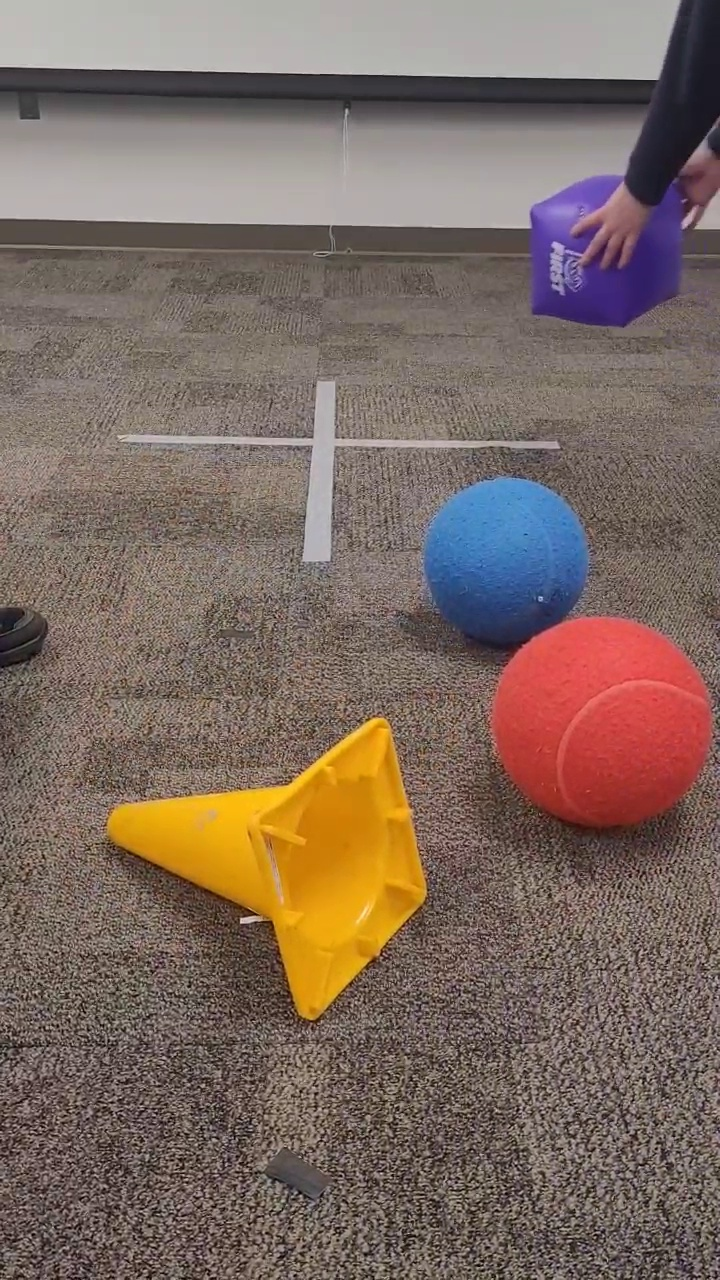ball: (489, 614, 714, 834), (421, 473, 590, 645)
cone: (102, 711, 432, 1024)
cube: (524, 167, 686, 331)
foot: (1, 598, 52, 675)
hand: (565, 178, 658, 278), (668, 132, 720, 231)
